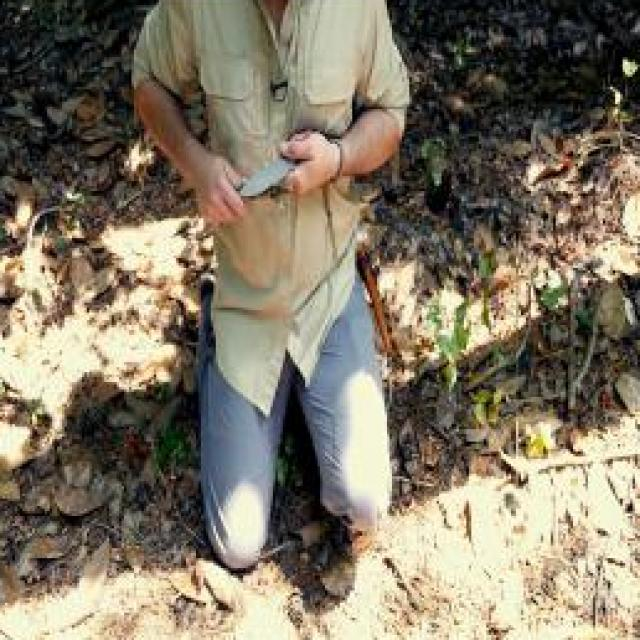knife: (233, 127, 325, 207)
